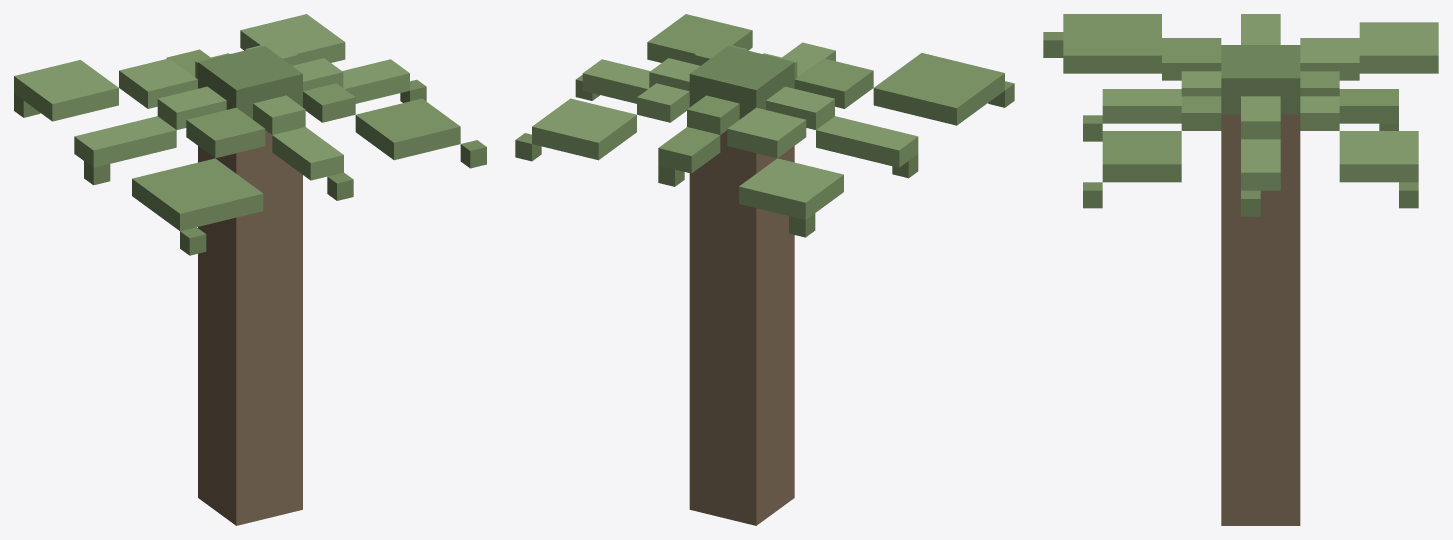
Rendered from palmera_costera_03.glb.
3 renders of one model, left to right at view 1: azimuth 30°, elevation 25°; view 2: azimuth 150°, elevation 25°; view 3: azimuth 270°, elevation 25°, orthographic. The views are drawn at different scales.
Visible parts, largest first — view 1: palmera_costera_03; view 2: palmera_costera_03; view 3: palmera_costera_03.
Boxes of the visible parts, left/top/right/bottom form: palmera_costera_03: left=14, top=14, right=486, bottom=525; palmera_costera_03: left=515, top=14, right=1014, bottom=525; palmera_costera_03: left=1043, top=14, right=1438, bottom=525.
Size of the model in its own units: 2 by 2.5 by 2.
